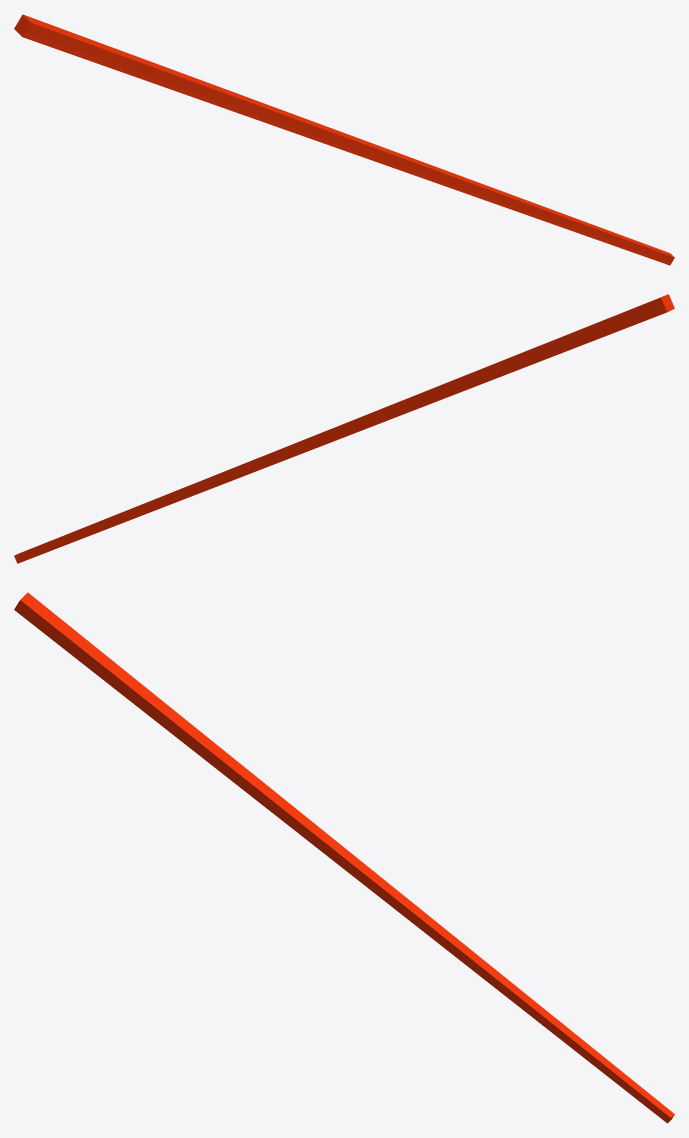
Rendered from Event_420107950_EBrechit_7.fbx.
3 views of the same model, one above another, from view 1: azimuth 30°, elevation 25°; view 2: azimuth 150°, elevation 25°; view 3: azimuth 330°, elevation 25° (orthographic). The views are drawn at different scales.
Parts seen in each view (by area): view 1: Model; view 2: Model; view 3: Model.
Part boxes in pixels (box(x1,y1,x2,y2)): Model: box(14, 14, 674, 265); Model: box(14, 294, 674, 563); Model: box(14, 592, 674, 1123).
Size of the model in its own units: 5.02 by 3.04 by 0.4817.
